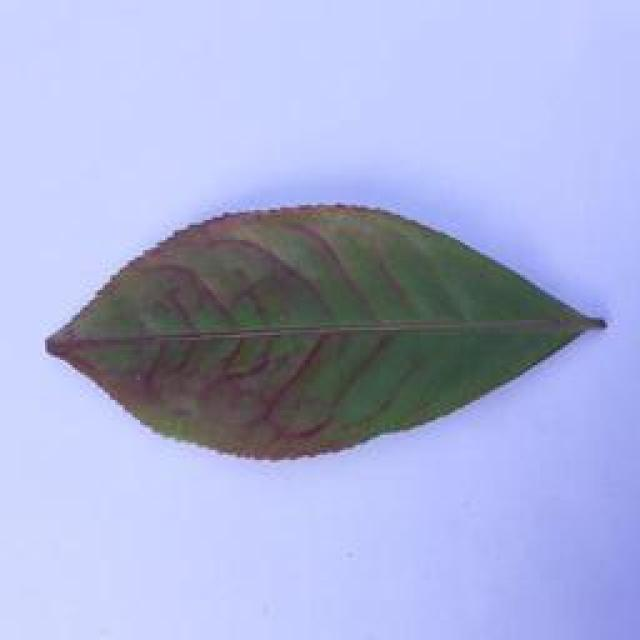Red Leaf Spot: (49, 198, 608, 462)
